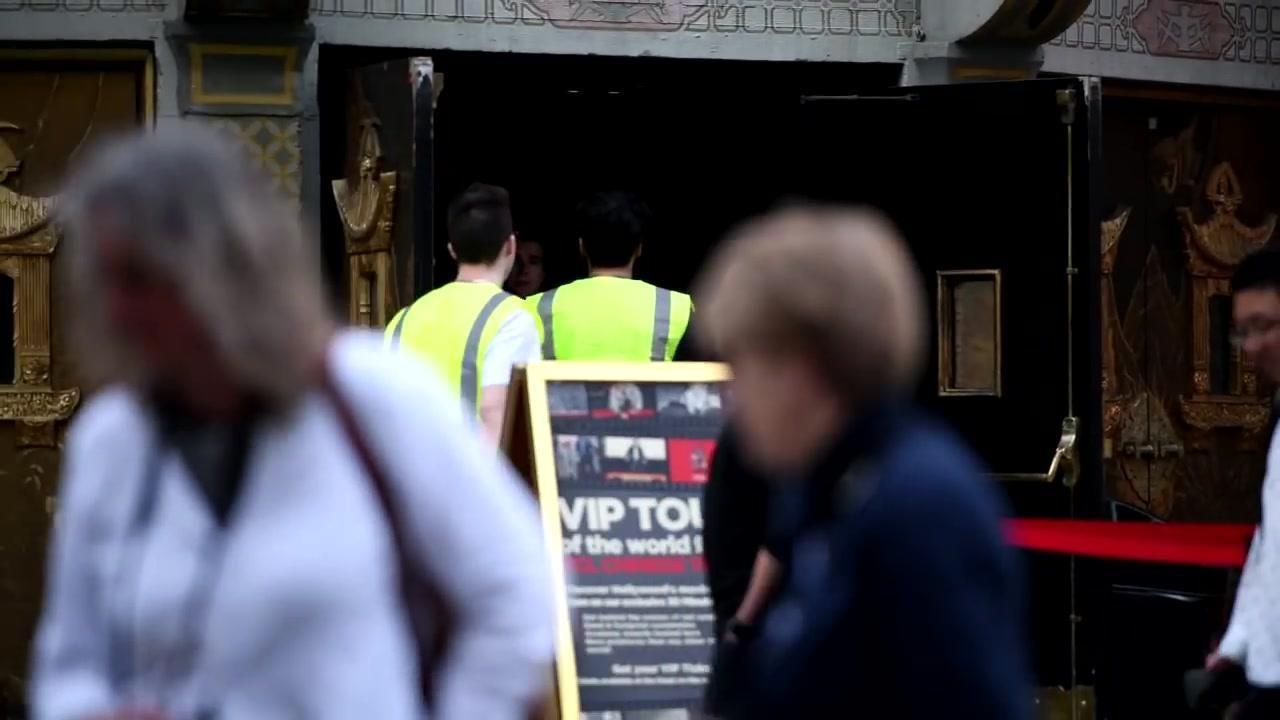vest: (377, 280, 548, 433), (523, 269, 693, 362)
